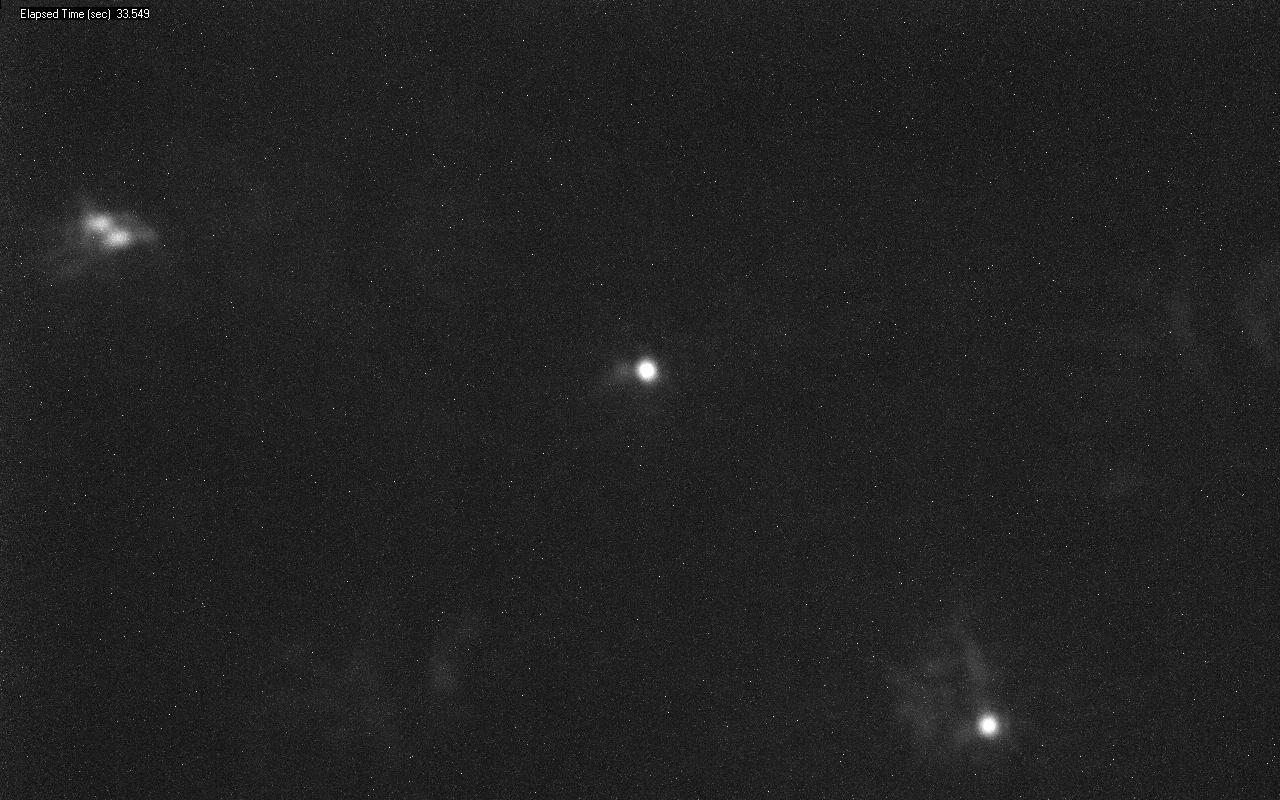Bead: (636, 358, 656, 382), (979, 715, 998, 736)
